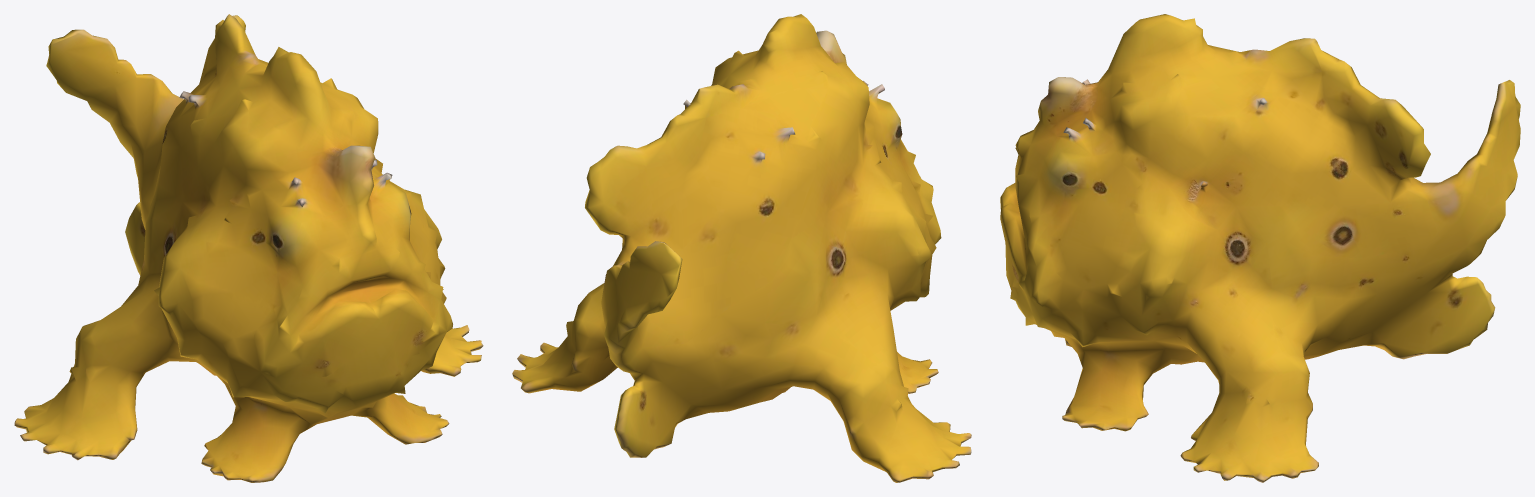
Rendered from kikvorsvis.glb.
3 views of the same model, side by side, from view 1: azimuth 30°, elevation 25°; view 2: azimuth 150°, elevation 25°; view 3: azimuth 270°, elevation 25° (orthographic). The views are drawn at different scales.
Parts seen in each view (by area): view 1: tripo_node_31dfec67-6f91-494b-acef-2b1ba80de059; view 2: tripo_node_31dfec67-6f91-494b-acef-2b1ba80de059; view 3: tripo_node_31dfec67-6f91-494b-acef-2b1ba80de059.
Part boxes in pixels (box(x1,y1,x2,y2)): tripo_node_31dfec67-6f91-494b-acef-2b1ba80de059: box(14, 14, 483, 482); tripo_node_31dfec67-6f91-494b-acef-2b1ba80de059: box(512, 14, 971, 482); tripo_node_31dfec67-6f91-494b-acef-2b1ba80de059: box(1000, 14, 1520, 482).
Size of the model in its own units: 0.1887 by 0.15 by 0.1941.
Materials: 1 (1 with a texture image).
